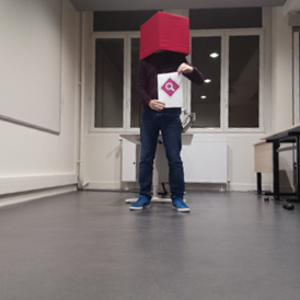search: (160, 77, 181, 96)
